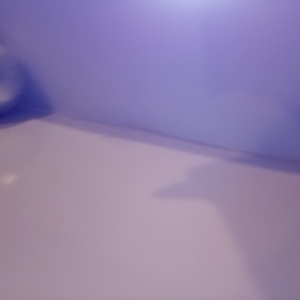alive_ball: (1, 45, 27, 116)
